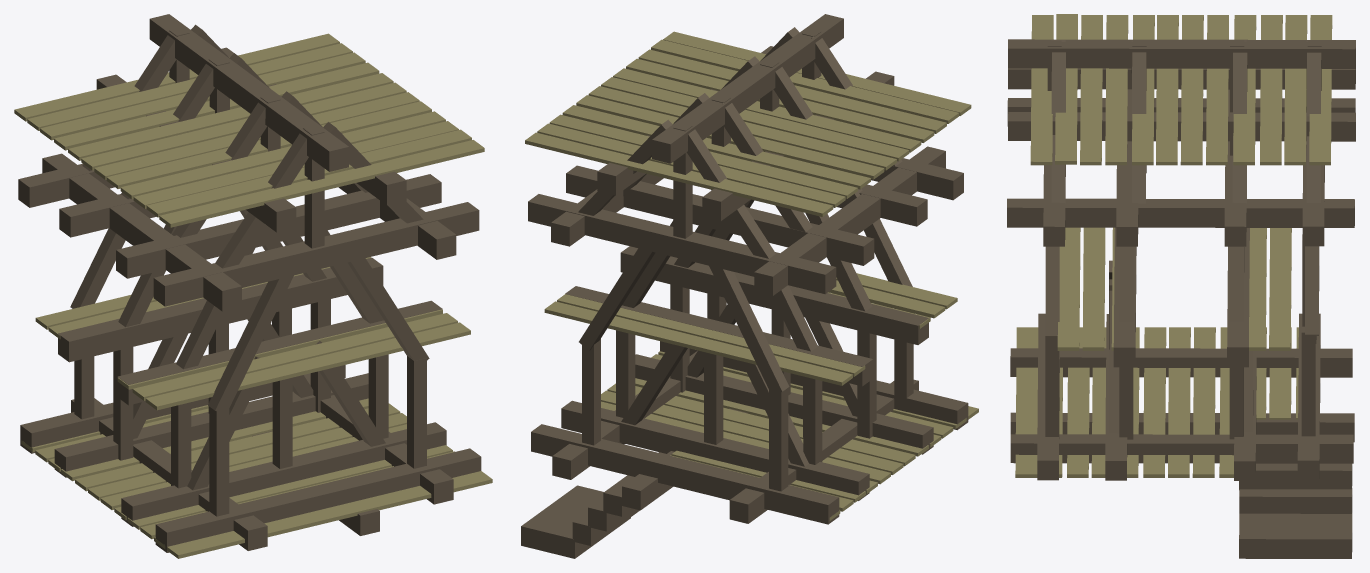
Rendered from belfry-fbx.fbx.
3 renders of one model, left to right at view 1: azimuth 30°, elevation 25°; view 2: azimuth 150°, elevation 25°; view 3: azimuth 270°, elevation 25°, orthographic. The views are drawn at different scales.
Visible parts, largest first — view 1: Untitled.130; view 2: Untitled.130; view 3: Untitled.130.
Boxes of the visible parts, bbox=[...] form: Untitled.130: bbox=[14, 14, 492, 558]; Untitled.130: bbox=[521, 14, 978, 558]; Untitled.130: bbox=[1007, 14, 1355, 558].
Size of the model in its own units: 4.02 by 5.65 by 4.01.
